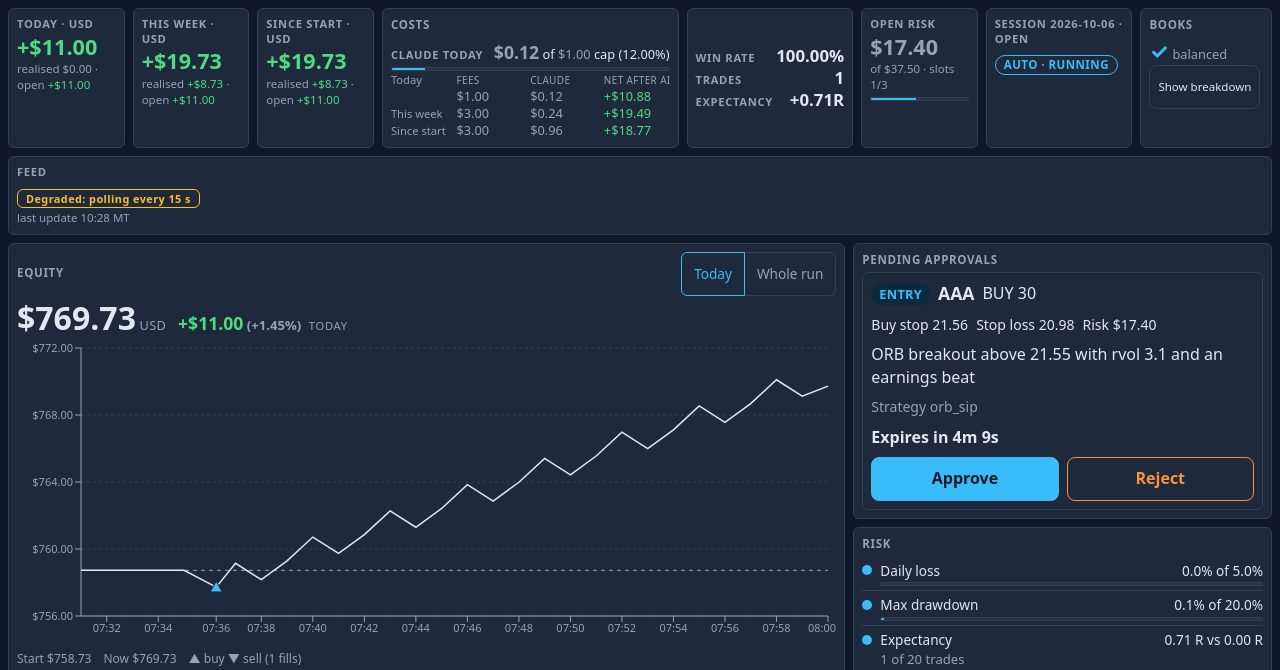
Test: carried over: approvals › keeps the decision message in auto mode too, after the pending list empties
The image size is (1280, 670).
Expected: the element named "Session" is shown, [8,8,1272,234]
Click the button "Approve".
click(965, 479)  # box [871,457,1059,501]
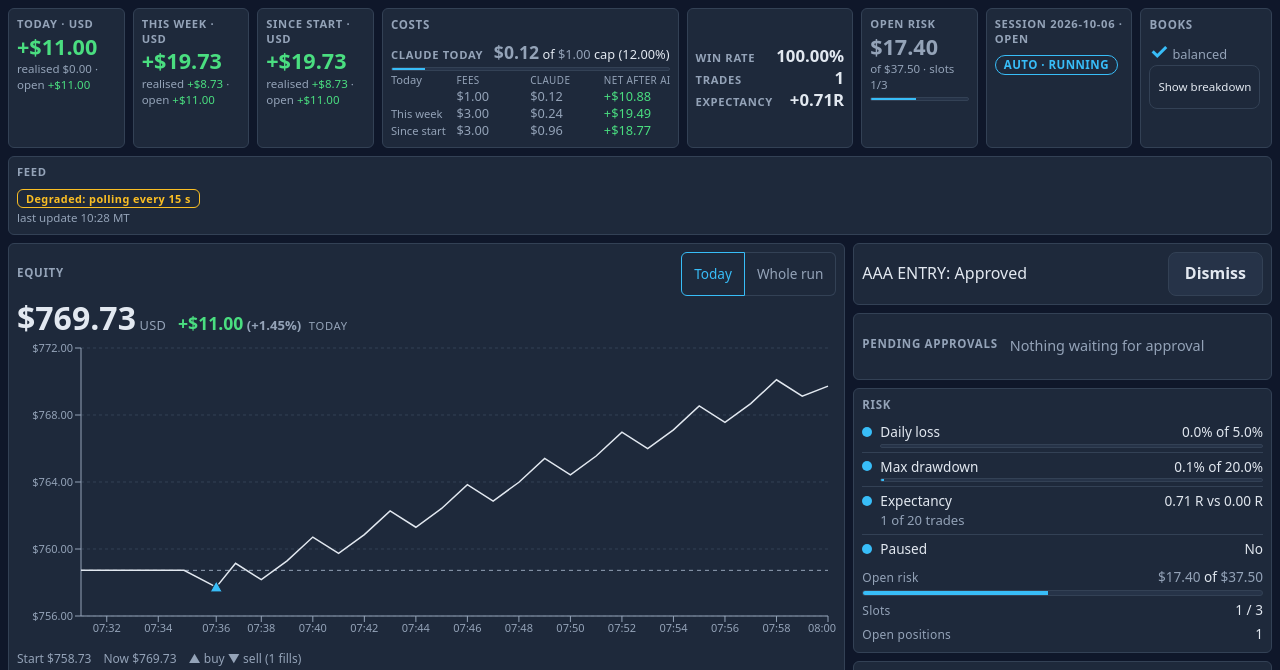
Result: the list named "Decisions" shows "Approved" at [862,262,1027,284]
